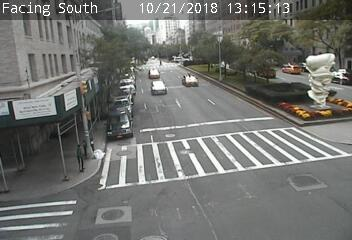car: (180, 75, 199, 87), (150, 81, 167, 94), (148, 67, 158, 77)
